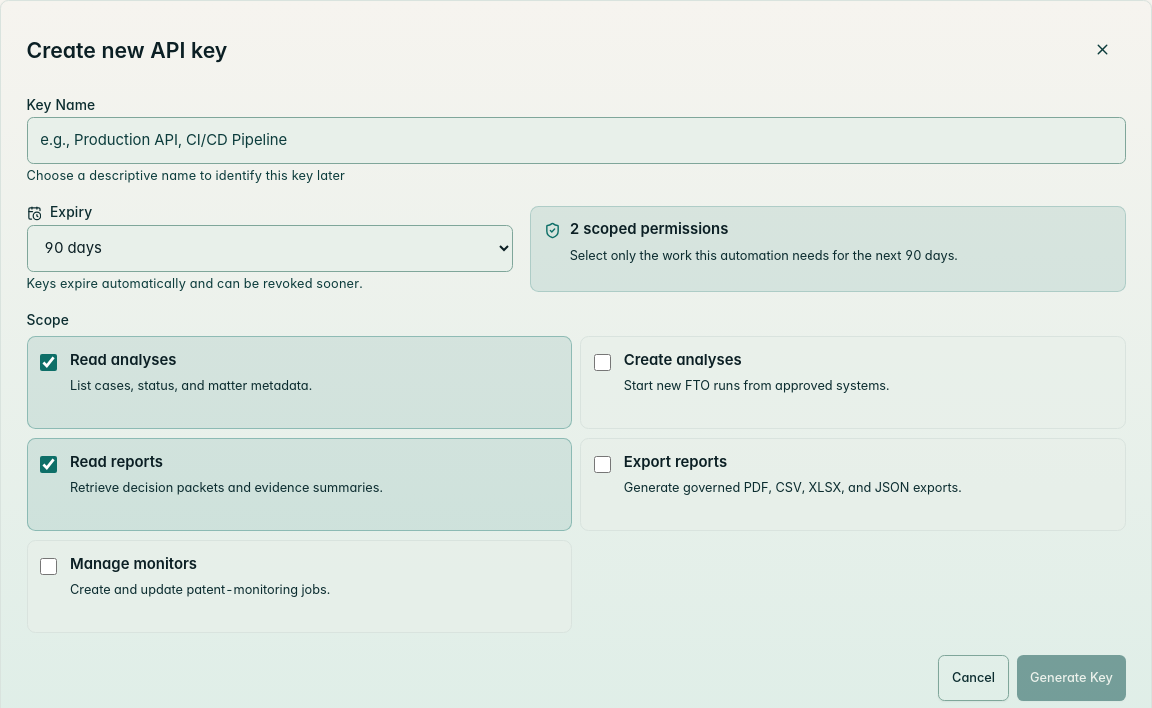
Test case: CreateApiKeyForm › preserves API-key form inputs after a definitive rejected request
Type "Preserved pipeline key" into the field with placeholder "e.g., Production API, CI/CD Pipeline" at (576,140), box [26,117,1126,164]
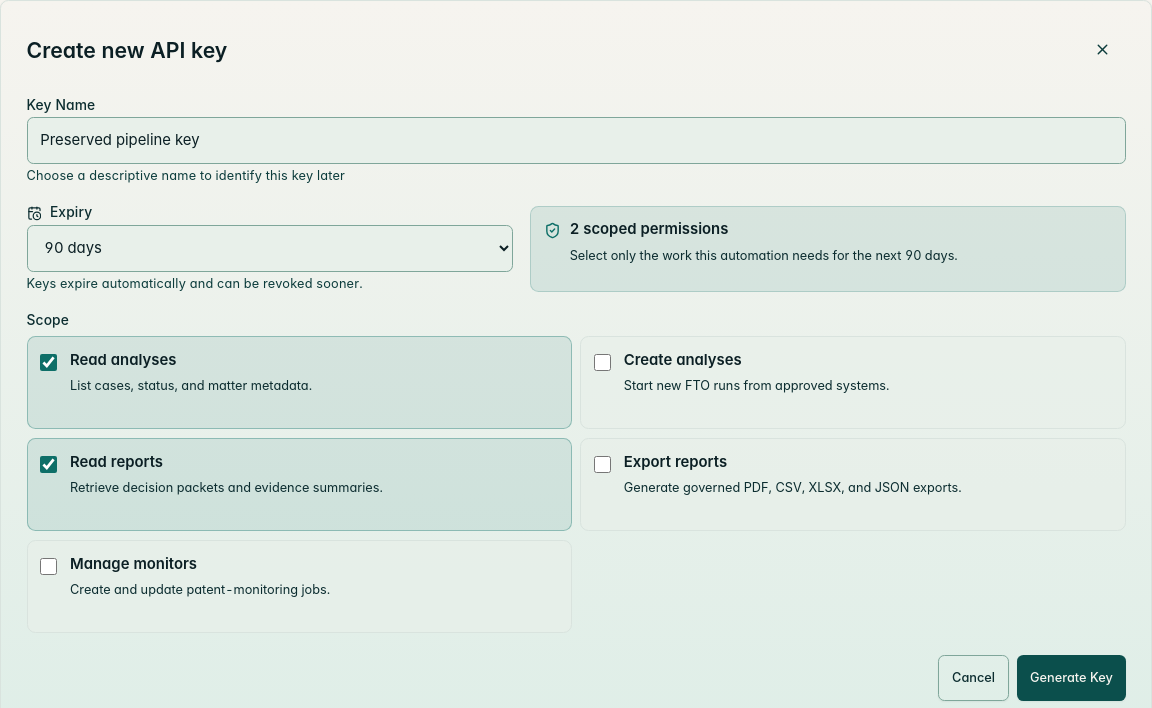
Click the checkbox named "Toggle Export reports scope" at (602,464), box [594,456,611,473]
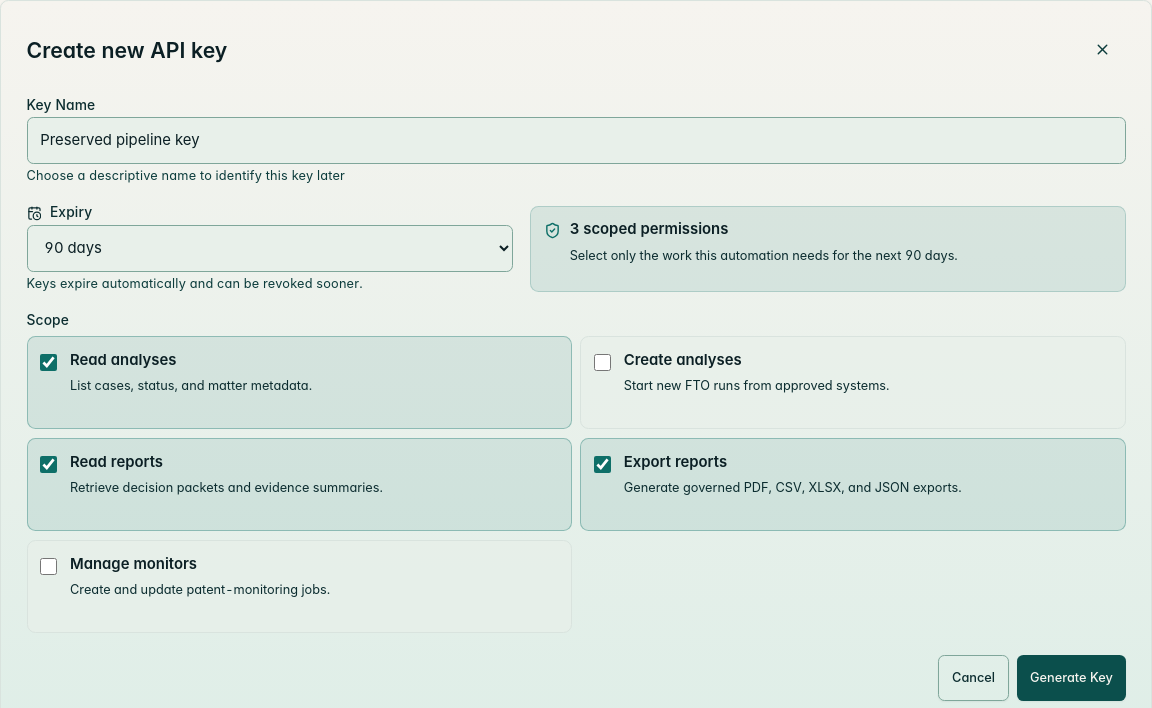
Click the button "Generate Key" at (1071,678), box [1017,655,1126,701]
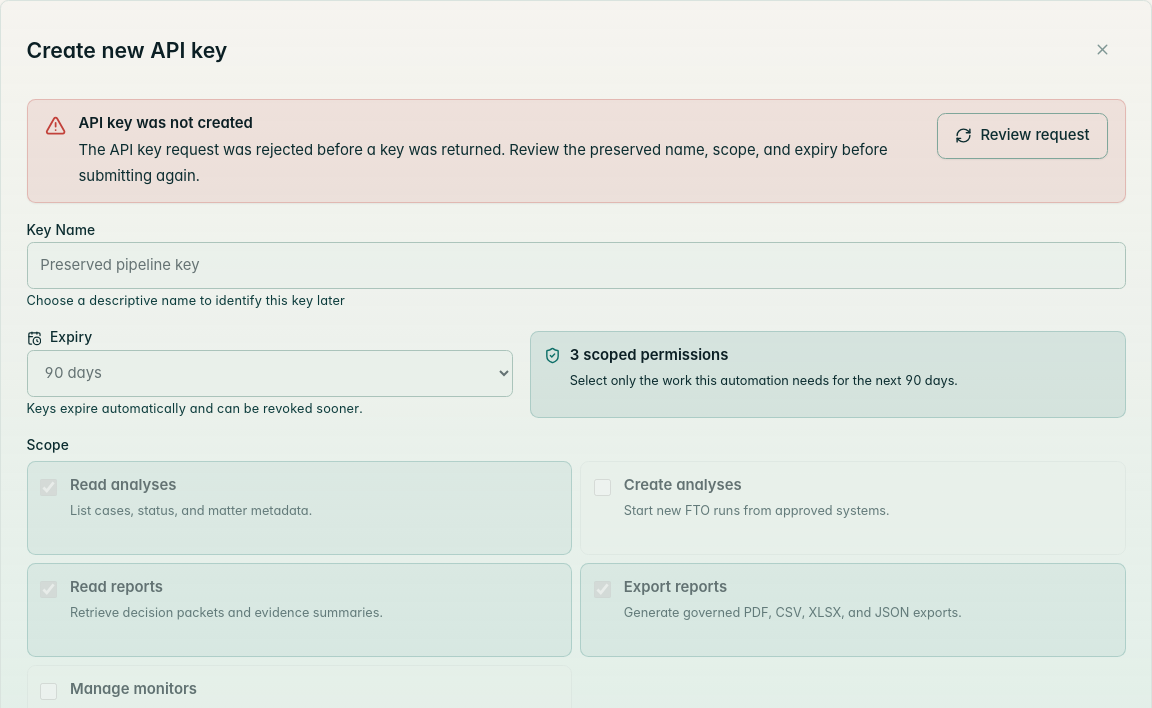
Expected: the checkbox named "Toggle Export reports scope" is checked, [594,581,611,598]
Click the button with test id "api-key-create-recovery-action" at (1022,136), box [937,112,1108,159]
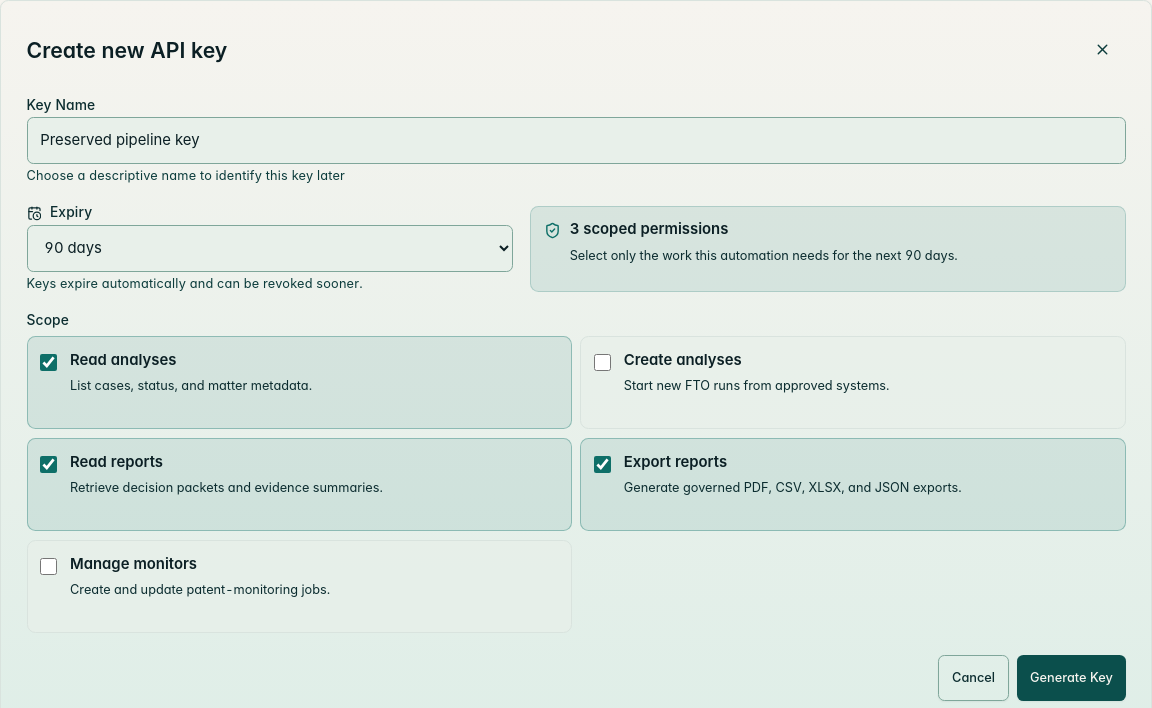
Expected: the message with test id "api-key-create-recovery" is gone
